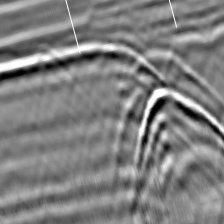Utility: (112, 46, 224, 210)
